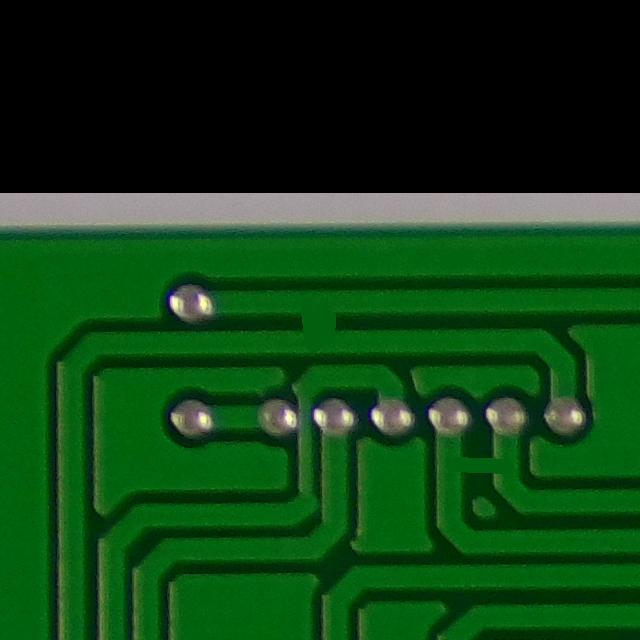short: (285, 284, 356, 356)
